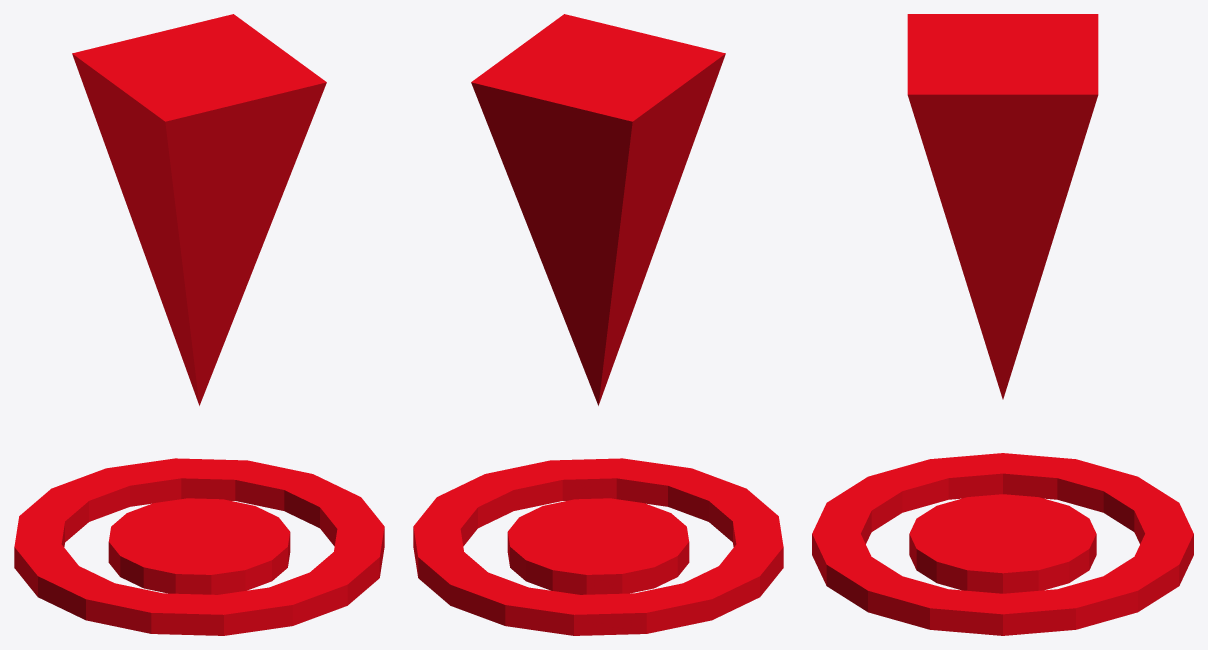
Rendered from target.glb.
3 renders of one model, left to right at view 1: azimuth 30°, elevation 25°; view 2: azimuth 150°, elevation 25°; view 3: azimuth 270°, elevation 25°, orthographic. The views are drawn at different scales.
Visible parts, largest first — view 1: Cube, Cylinder; view 2: Cube, Cylinder; view 3: Cylinder, Cube.
Boxes of the visible parts, x1,y1,x2,y2 form: Cube: [72, 14, 326, 405]; Cylinder: [14, 458, 384, 635]; Cube: [471, 14, 725, 405]; Cylinder: [413, 458, 783, 635]; Cylinder: [812, 453, 1193, 635]; Cube: [907, 14, 1098, 399].
Size of the model in its own units: 1.2 by 1.74 by 1.2.
